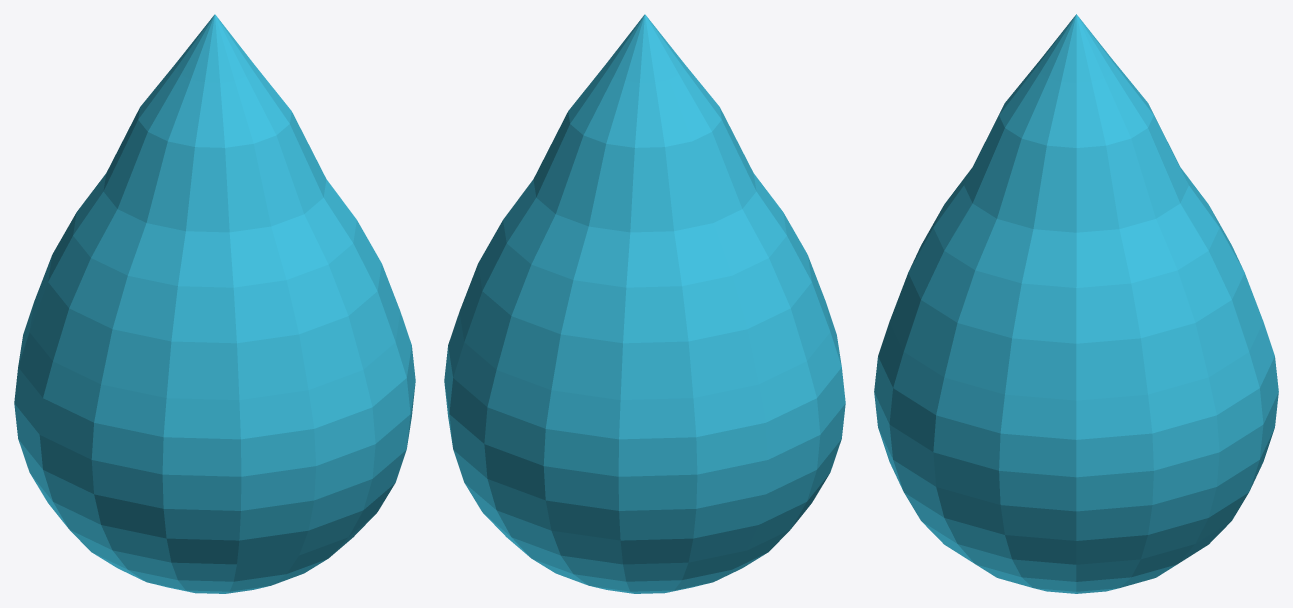
Rendered from water.fbx.
The picture shows the model from 3 angles, left to right: view 1: azimuth 30°, elevation 25°; view 2: azimuth 150°, elevation 25°; view 3: azimuth 270°, elevation 25°; orthographic projection.
Parts seen in each view (by area): view 1: water; view 2: water; view 3: water.
Boxes of the visible parts, bbox=[...] form: water: bbox=[14, 14, 415, 593]; water: bbox=[444, 14, 845, 593]; water: bbox=[874, 14, 1278, 593].
Size of the model in its own units: 200 by 306 by 200.
